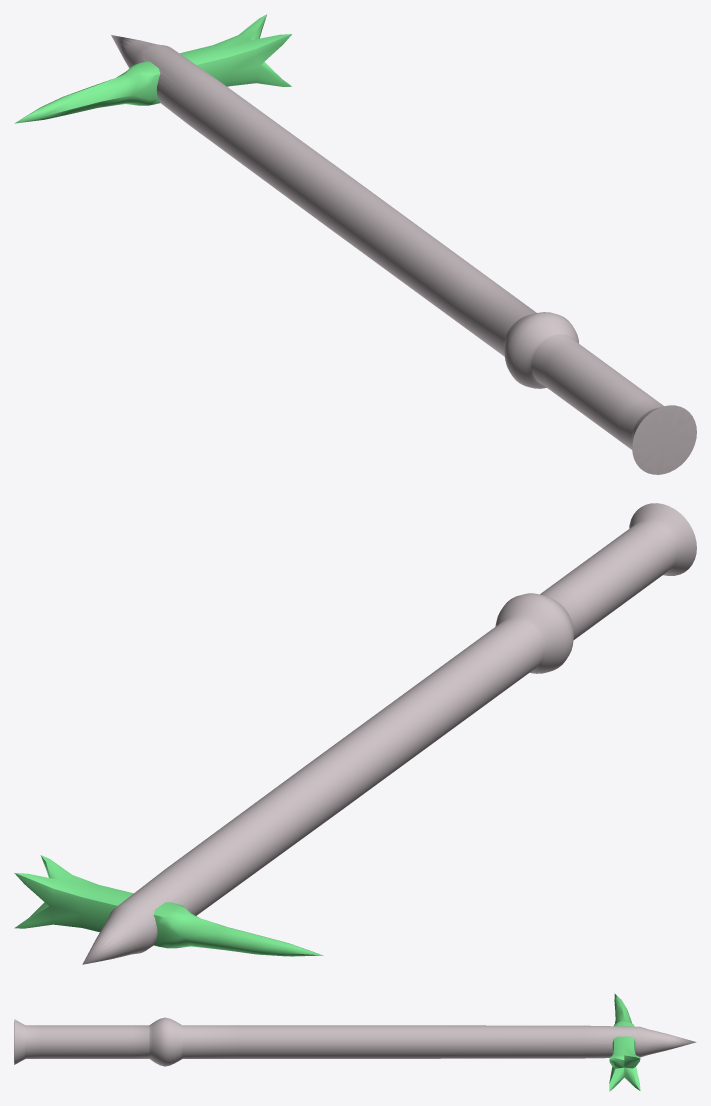
3 renders of one model, top to bottom at view 1: azimuth 30°, elevation 25°; view 2: azimuth 150°, elevation 25°; view 3: azimuth 270°, elevation 25°, orthographic. The views are drawn at different scales.
Visible parts, largest first — view 1: Cylinder001__0, Box001__0; view 2: Cylinder001__0, Box001__0; view 3: Cylinder001__0, Box001__0.
Boxes of the visible parts, left/top/right/bottom form: Cylinder001__0: left=111, top=35, right=696, bottom=474; Box001__0: left=14, top=14, right=291, bottom=123; Cylinder001__0: left=82, top=503, right=696, bottom=964; Box001__0: left=14, top=855, right=323, bottom=956; Cylinder001__0: left=14, top=1017, right=696, bottom=1066; Box001__0: left=609, top=993, right=640, bottom=1091.
Bounding box in the file's own units: 0.2859 × 0.0721 × 1.
